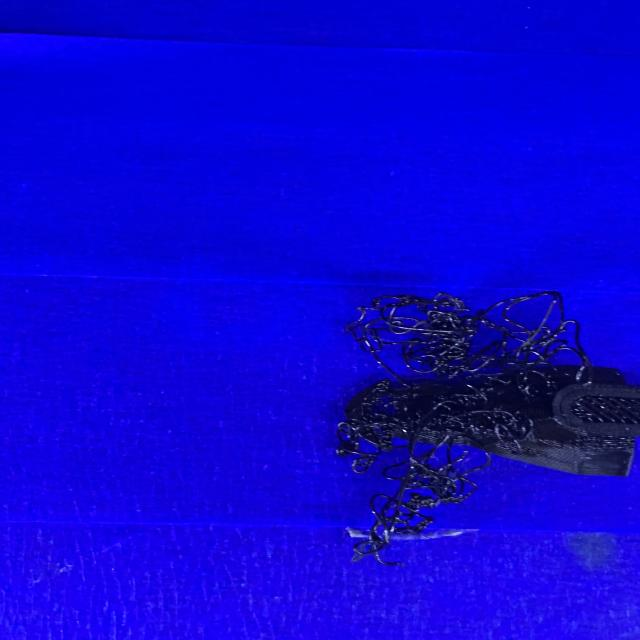spaghetti: (335, 289, 638, 566)
